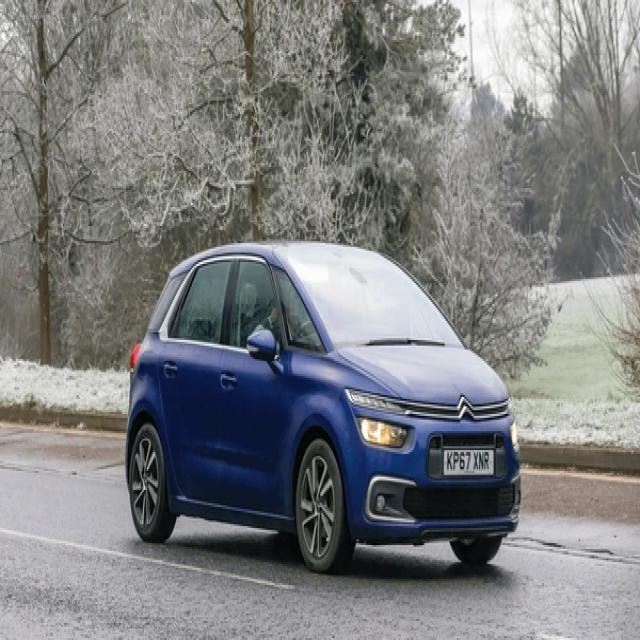citroen: (457, 393, 475, 421)
